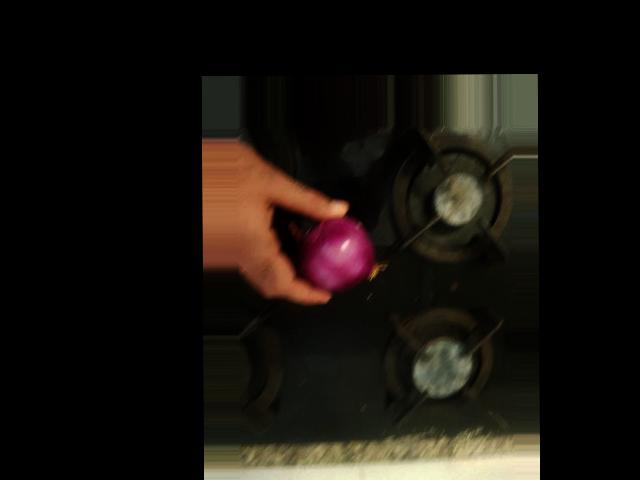onion: (291, 210, 379, 293)
